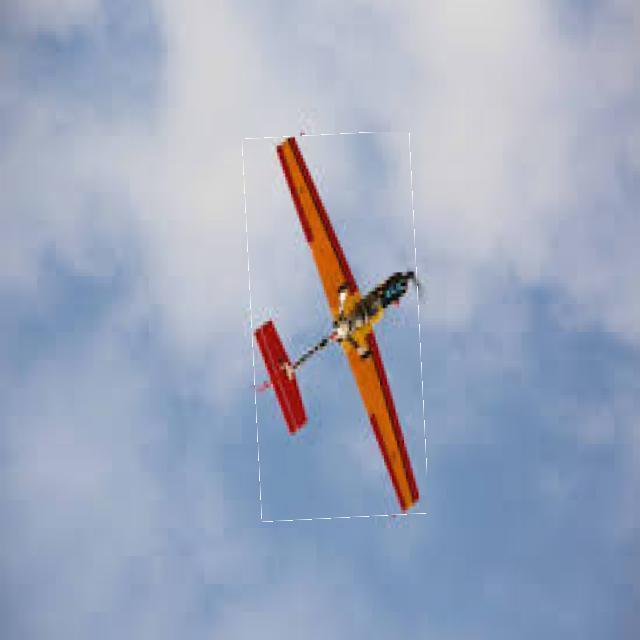iha: (253, 137, 439, 506)
